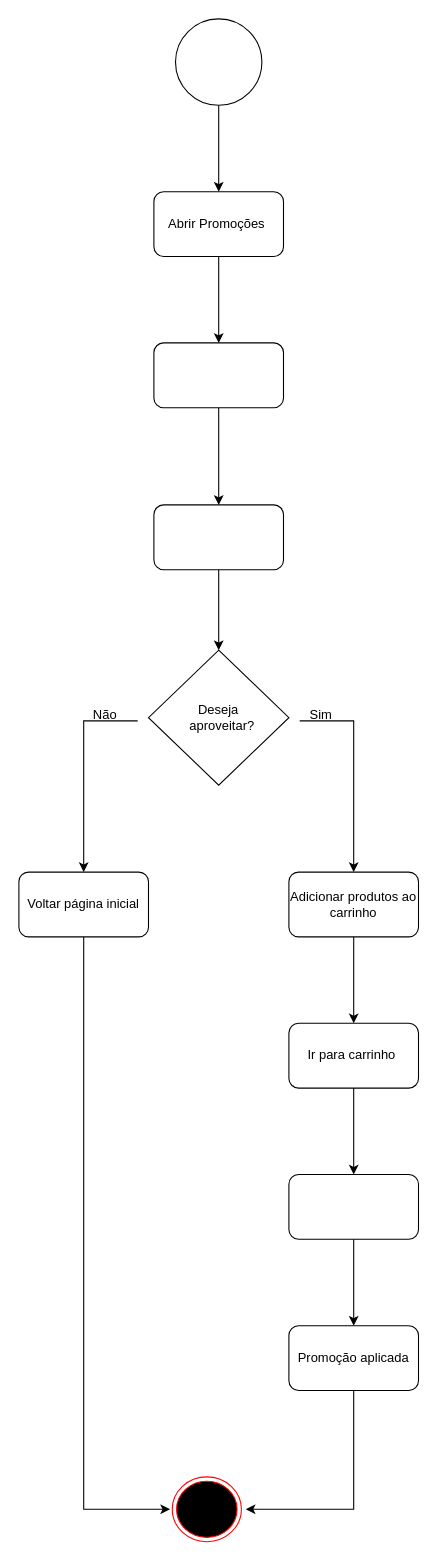
Some shapes in this 437 by 1561 pixel diagram are drawn without their labels. Each missing label, with the centre of its shape:
"Finalizar compra" goes at [353,1206].
"Selecionar promoção" goes at [218,537].
"Visualizar ofertas" goes at [218,375].
